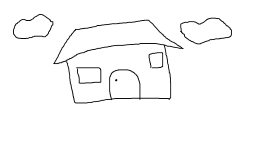clouds: (180, 17, 232, 45), (12, 14, 53, 40)
door: (105, 67, 145, 104)
open_window: (76, 67, 102, 84), (148, 52, 163, 69)
roof: (53, 19, 183, 65)
wall: (67, 43, 171, 103)
